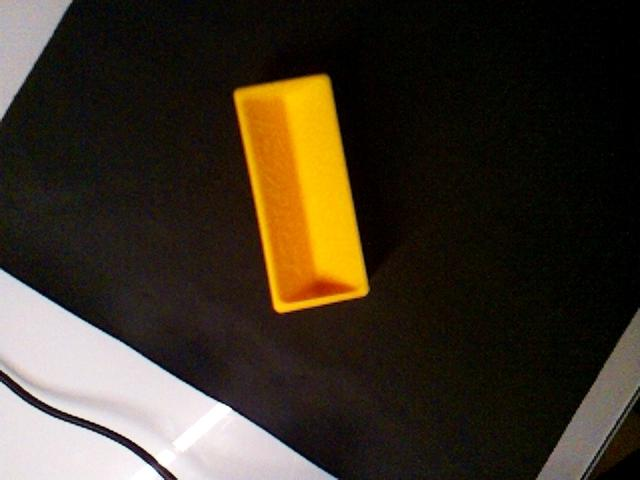yellow: (232, 72, 372, 315)
